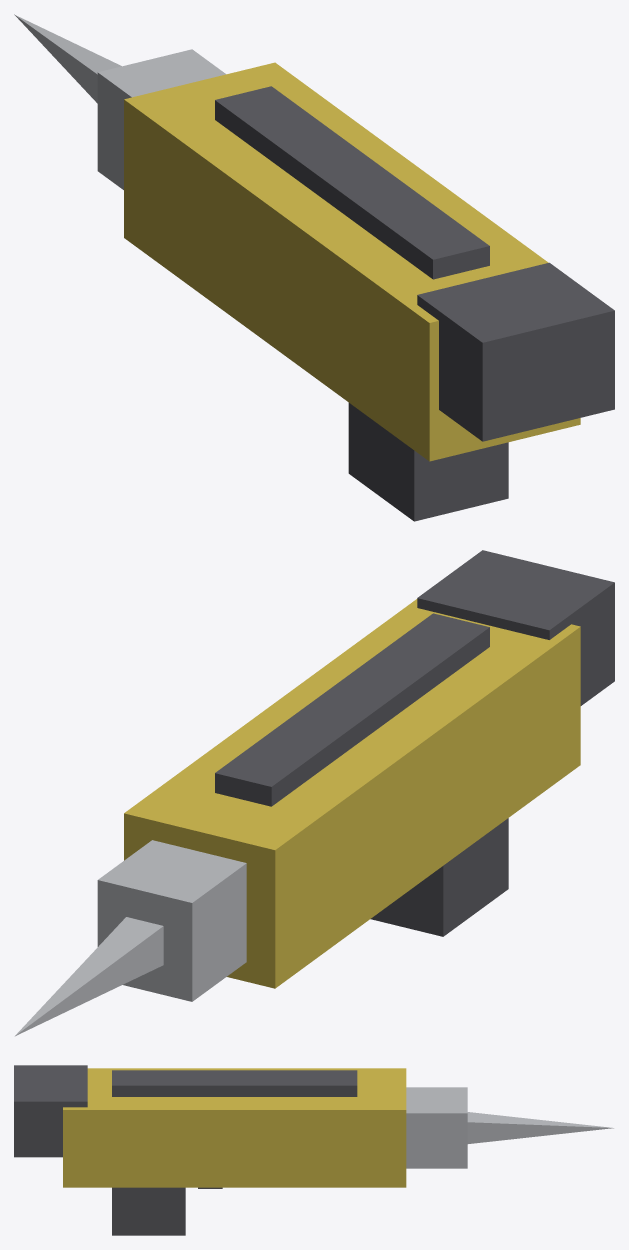
Rendered from drill.glb.
3 renders of one model, top to bottom at view 1: azimuth 30°, elevation 25°; view 2: azimuth 150°, elevation 25°; view 3: azimuth 270°, elevation 25°, orthographic. The views are drawn at different scales.
Parts seen in each view (by area): view 1: tool.drill; view 2: tool.drill; view 3: tool.drill.
Part boxes in pixels (box(x1,y1,x2,y2)): tool.drill: box(14, 14, 614, 521); tool.drill: box(14, 550, 614, 1036); tool.drill: box(14, 1065, 613, 1235).
Size of the model in its own units: 0.08 by 0.13 by 0.49.
